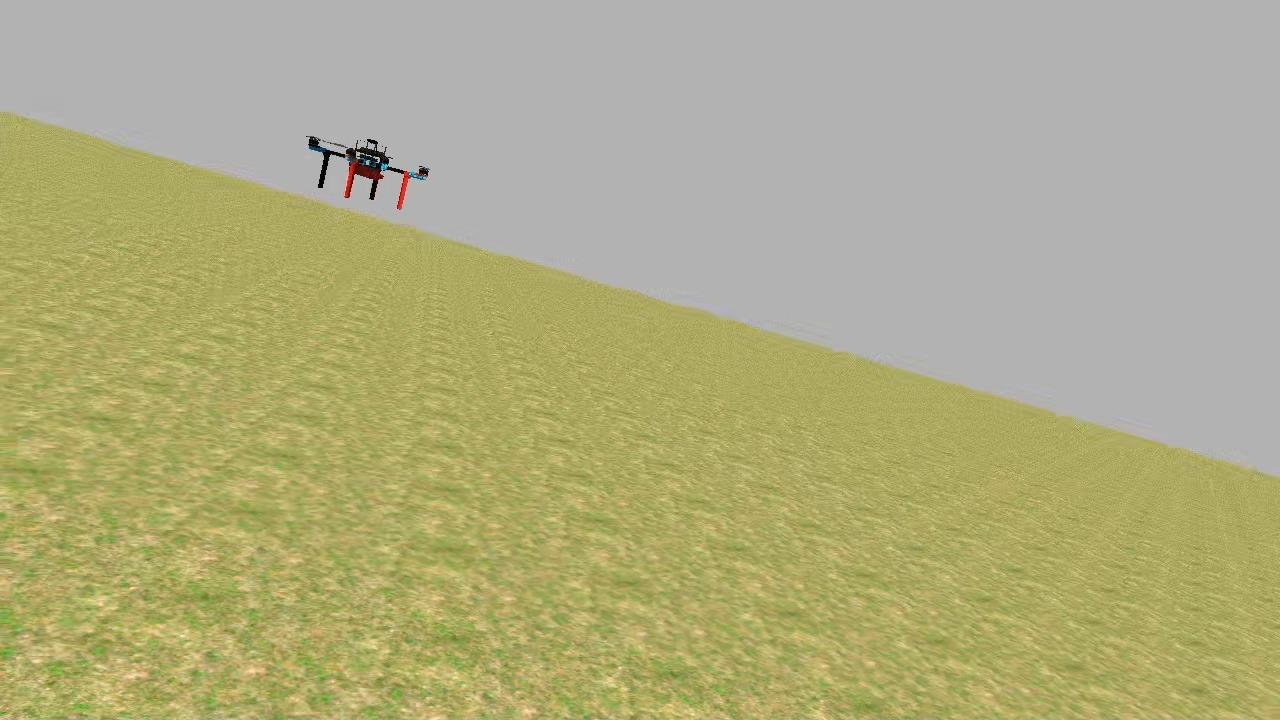UAV: (266, 116, 464, 223)
